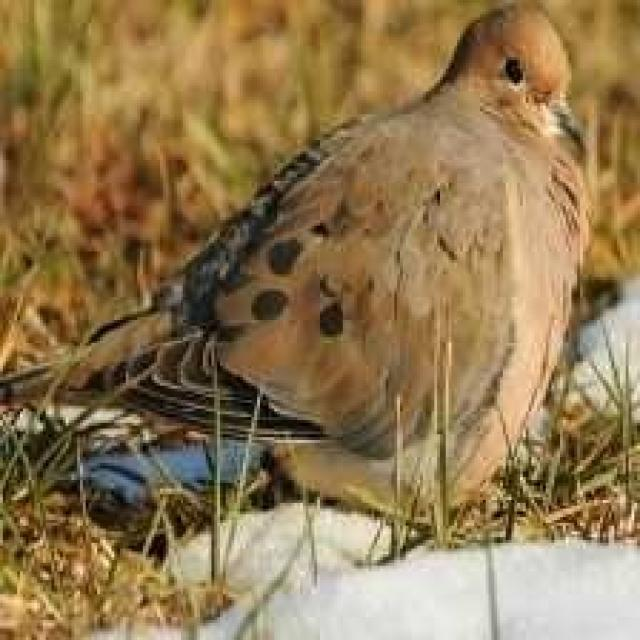bird: (0, 4, 612, 549)
